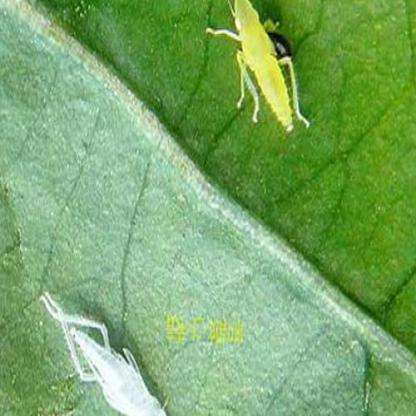green-leafhopper: (208, 0, 310, 131)
